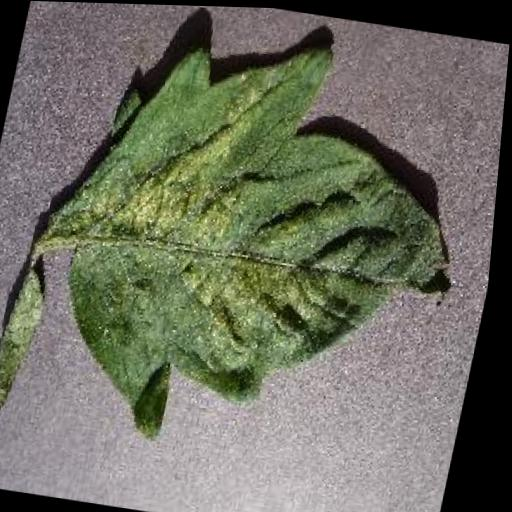Spider Mites: (43, 15, 500, 476)
